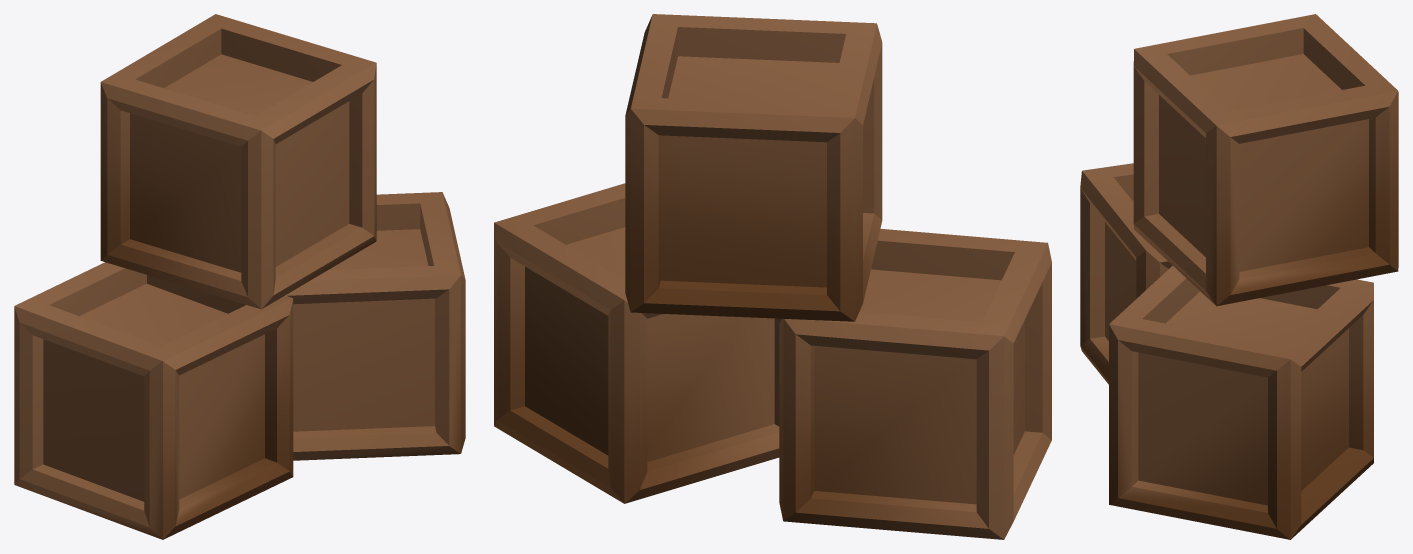
File: WoodenBox_Stack.fbx
The picture shows the model from 3 angles, left to right: view 1: azimuth 30°, elevation 25°; view 2: azimuth 150°, elevation 25°; view 3: azimuth 270°, elevation 25°; orthographic projection. The views are drawn at different scales.
Parts seen in each view (by area): view 1: WoodenBox_Stack.001; view 2: WoodenBox_Stack.001; view 3: WoodenBox_Stack.001.
Part boxes in pixels (box(x1,y1,x2,y2)): WoodenBox_Stack.001: box(14, 14, 465, 539); WoodenBox_Stack.001: box(494, 14, 1051, 539); WoodenBox_Stack.001: box(1080, 14, 1398, 539).
Size of the model in its own units: 2.26 by 1.77 by 1.41.
1 material, 1 textured.
